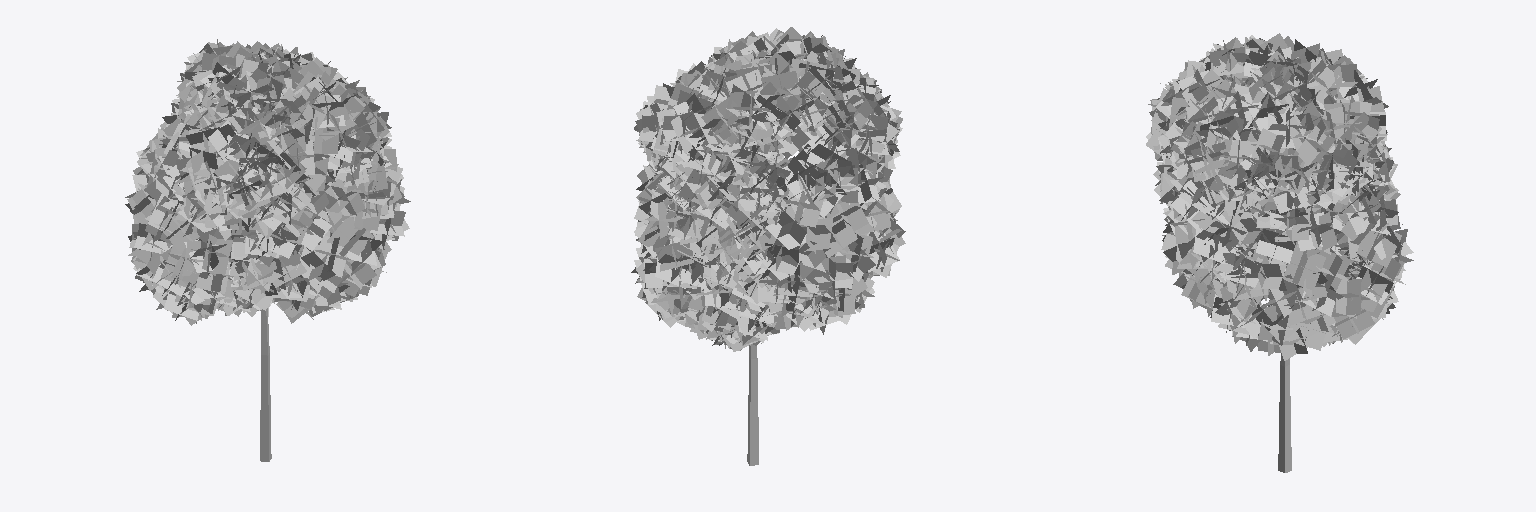
The model's file is tree.obj.
3 renders of one model, left to right at view 1: azimuth 30°, elevation 25°; view 2: azimuth 150°, elevation 25°; view 3: azimuth 270°, elevation 25°, orthographic.
Visible parts, largest first — view 1: Leaves.002; view 2: Leaves.002; view 3: Leaves.002.
Boxes of the visible parts, box(x1,y1,x2,y2) form: Leaves.002: box(125, 39, 410, 461); Leaves.002: box(631, 27, 905, 465); Leaves.002: box(1146, 33, 1413, 472).
Bounding box in the file's own units: 3.41 × 5.77 × 3.38.